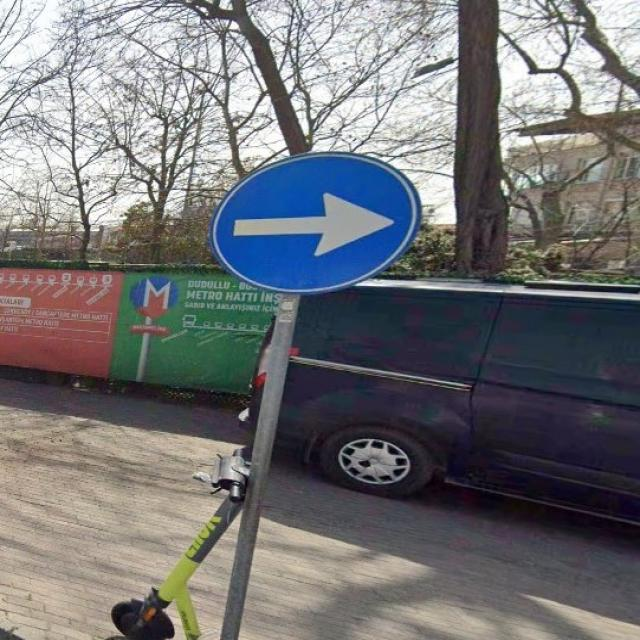Turn Right: (202, 156, 435, 297)
